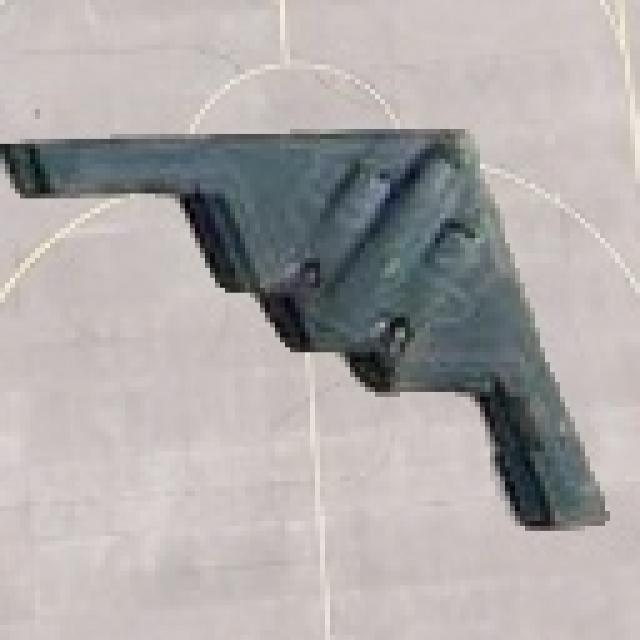B-2_TopDown: (0, 119, 610, 541)
